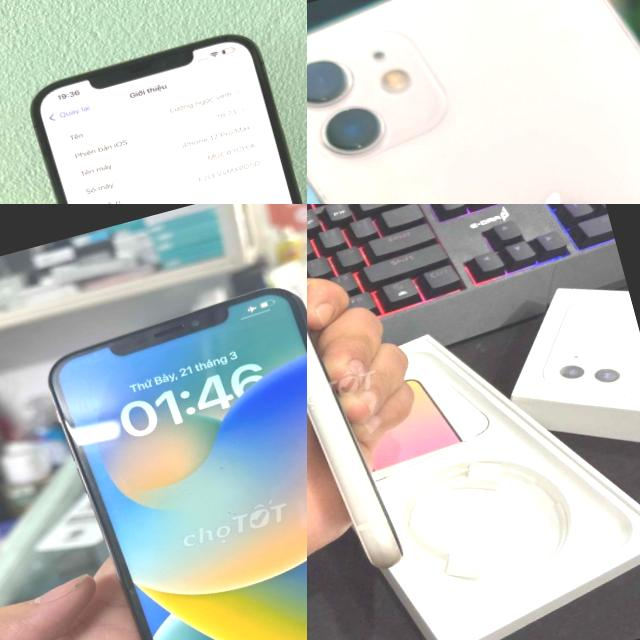scratch: (307, 327, 323, 366)
